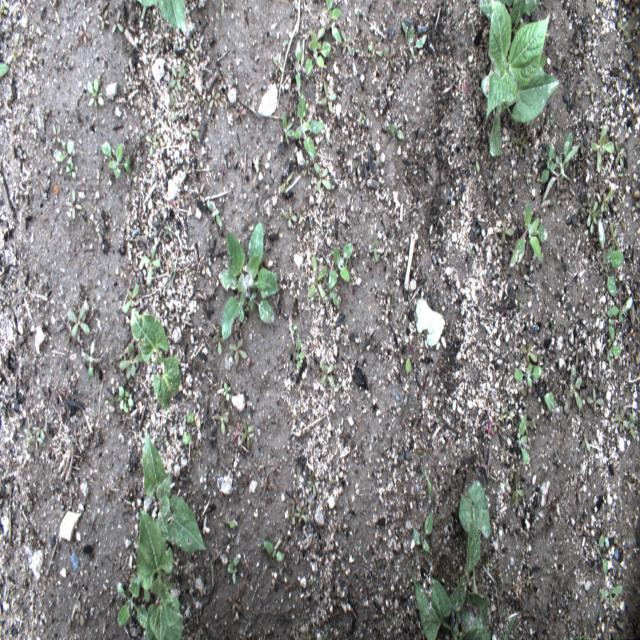crop: (478, 1, 560, 157), (412, 482, 492, 639), (142, 434, 206, 558), (133, 508, 183, 640), (131, 309, 181, 410), (136, 0, 187, 36)
weed: (215, 219, 279, 343), (538, 132, 580, 202), (508, 202, 548, 270), (291, 91, 326, 158), (116, 574, 151, 634), (598, 222, 626, 296), (304, 27, 332, 84), (101, 142, 130, 185), (327, 243, 353, 290), (591, 124, 614, 175), (411, 506, 433, 555), (402, 20, 429, 59), (118, 344, 145, 382), (566, 361, 585, 412), (64, 305, 91, 340), (308, 254, 327, 303), (582, 192, 603, 235), (81, 340, 104, 378), (511, 362, 543, 388), (518, 338, 541, 372), (324, 1, 343, 42), (143, 243, 161, 286), (293, 37, 306, 94), (517, 413, 530, 468), (492, 214, 516, 243), (281, 106, 297, 148), (593, 533, 609, 575), (179, 409, 196, 448), (312, 161, 332, 193), (167, 62, 187, 94), (65, 188, 84, 221), (609, 296, 633, 322), (598, 583, 624, 606), (206, 199, 224, 232), (263, 536, 283, 565), (116, 382, 134, 414), (511, 472, 526, 510), (239, 419, 255, 454), (122, 284, 140, 315), (319, 360, 338, 389), (214, 402, 230, 436), (87, 80, 104, 110), (229, 338, 248, 364), (292, 338, 307, 370), (55, 139, 75, 162), (586, 386, 603, 412), (606, 220, 620, 250), (571, 339, 585, 367), (544, 392, 562, 413), (340, 28, 353, 57), (601, 188, 615, 214), (625, 412, 637, 440), (384, 46, 396, 74), (211, 331, 226, 353), (74, 603, 88, 626), (50, 122, 61, 150), (228, 555, 238, 585), (366, 41, 384, 56), (614, 414, 628, 433), (615, 142, 625, 168), (388, 124, 404, 140), (607, 304, 614, 340), (581, 433, 592, 454)
